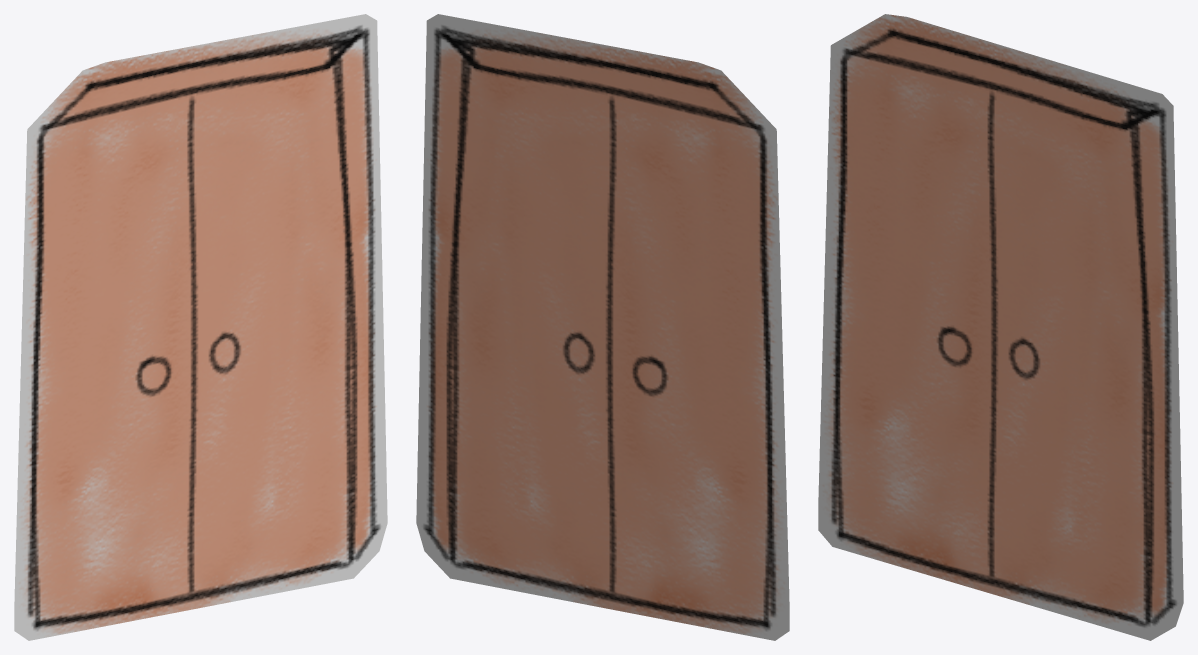
The model's file is Garderob.fbx.
3 views of the same model, side by side, from view 1: azimuth 30°, elevation 25°; view 2: azimuth 150°, elevation 25°; view 3: azimuth 330°, elevation 25° (orthographic). The views are drawn at different scales.
Visible parts, largest first — view 1: garderob; view 2: garderob; view 3: garderob.
Part boxes in pixels (bbox=[...]): garderob: bbox=[14, 14, 387, 640]; garderob: bbox=[416, 14, 789, 640]; garderob: bbox=[818, 14, 1183, 640].
Size of the model in its own units: 99.34 by 147 by 2.39e-05.
Materials: 1 (1 with a texture image).
